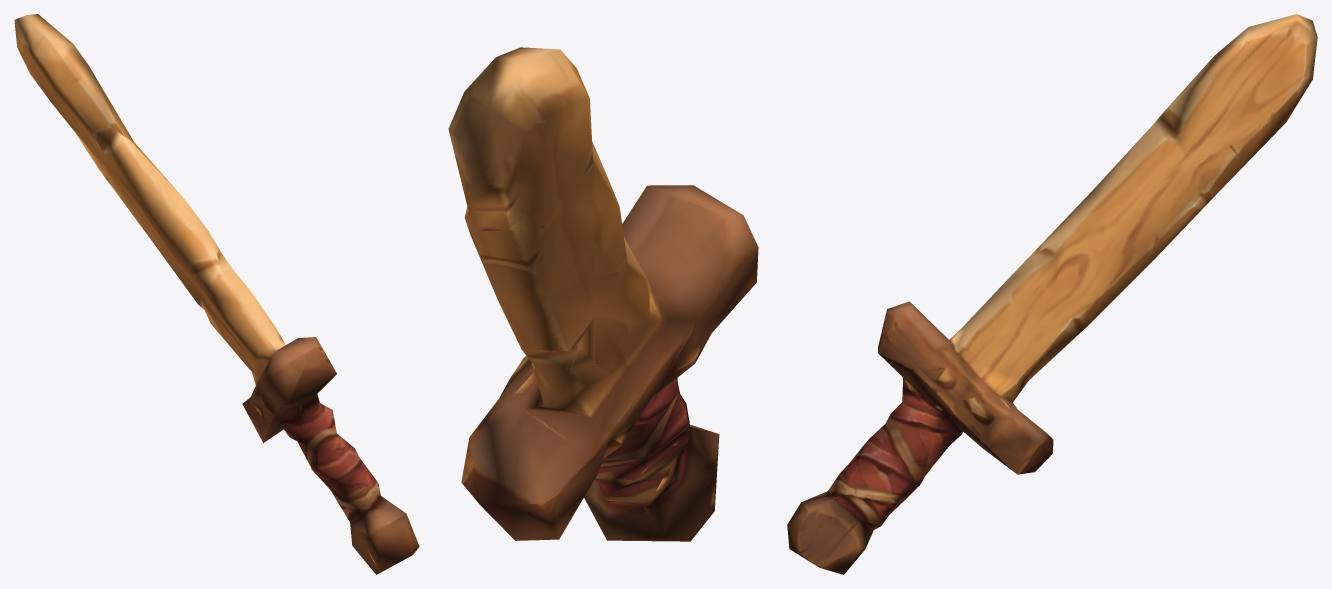
File: espada_madeira.glb
3 views of the same model, side by side, from view 1: azimuth 30°, elevation 25°; view 2: azimuth 150°, elevation 25°; view 3: azimuth 270°, elevation 25° (orthographic). The views are drawn at different scales.
Parts seen in each view (by area): view 1: tripo_node_02d99398-c661-4856-91d5-f71f573e7715; view 2: tripo_node_02d99398-c661-4856-91d5-f71f573e7715; view 3: tripo_node_02d99398-c661-4856-91d5-f71f573e7715.
Part boxes in pixels (x1,y1,x2,y2): tripo_node_02d99398-c661-4856-91d5-f71f573e7715: (14,14,419,574); tripo_node_02d99398-c661-4856-91d5-f71f573e7715: (448,47,758,541); tripo_node_02d99398-c661-4856-91d5-f71f573e7715: (787,14,1317,574).
Size of the model in its own units: 0.4238 by 0.9672 by 0.975.
1 material, 1 textured.
